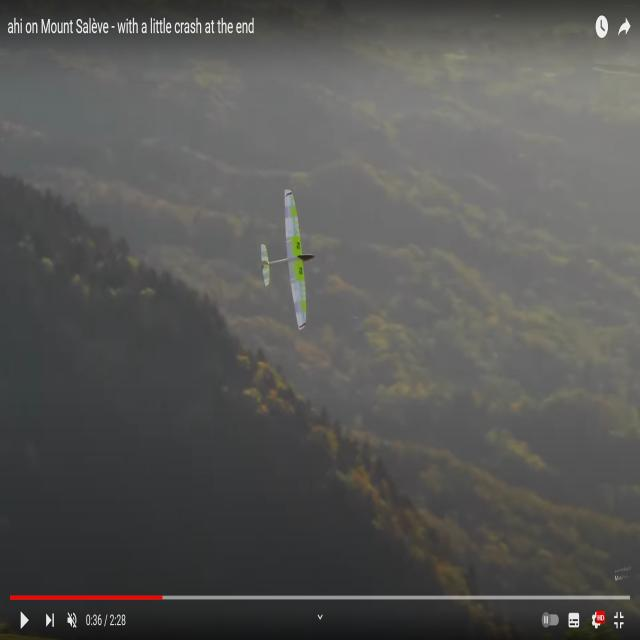iha: (259, 189, 316, 332)
